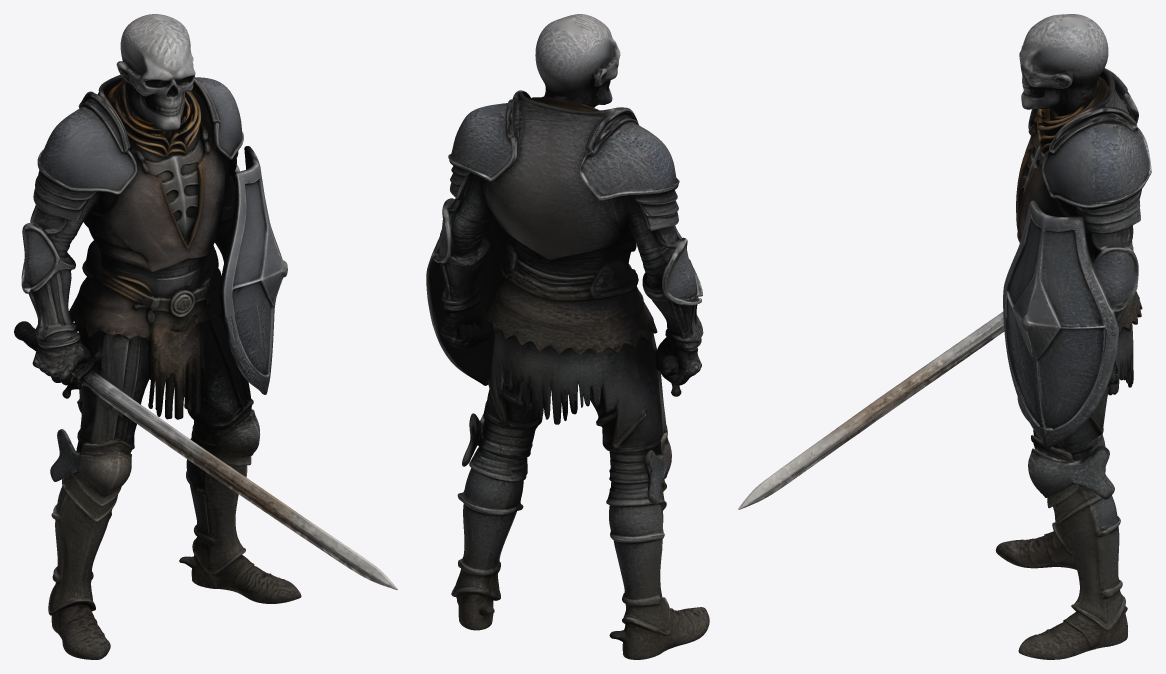
Rendered from skeleton.glb.
3 views of the same model, side by side, from view 1: azimuth 30°, elevation 25°; view 2: azimuth 150°, elevation 25°; view 3: azimuth 270°, elevation 25° (orthographic). The views are drawn at different scales.
Visible parts, largest first — view 1: material; view 2: material; view 3: material.
Part boxes in pixels (bbox=[...]): material: bbox=[14, 14, 397, 659]; material: bbox=[426, 14, 709, 659]; material: bbox=[738, 14, 1151, 659].
Size of the model in its own units: 0.4519 by 1.02 by 0.6535.
1 material, 1 textured.
